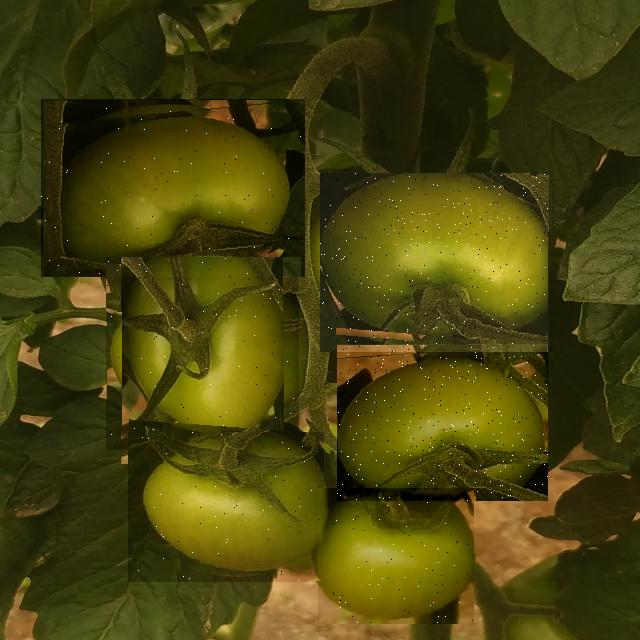Unripe Tomato: (38, 99, 304, 277), (320, 173, 550, 352), (106, 257, 299, 450), (337, 344, 548, 501), (128, 432, 324, 582), (317, 488, 473, 624)
